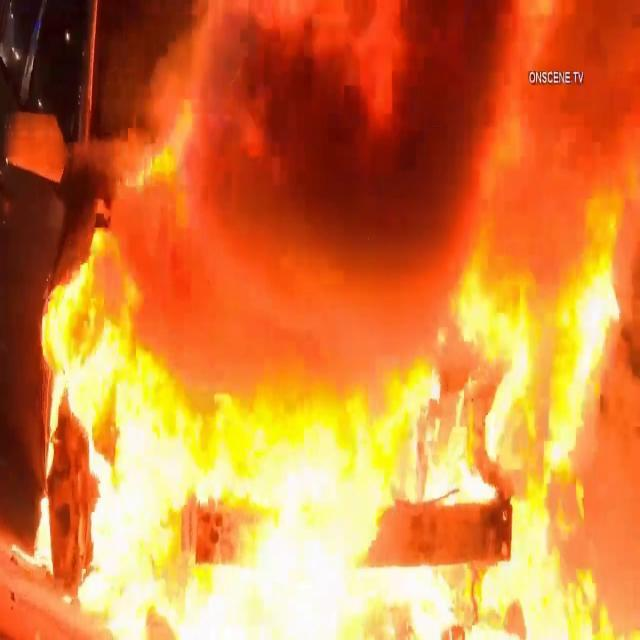Fire: (40, 277, 640, 640)
Smoke: (89, 0, 640, 297)
